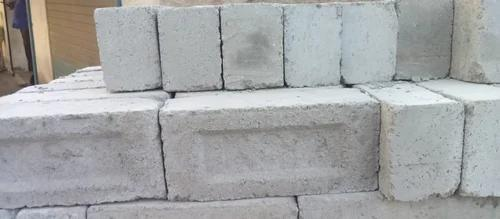brick: (160, 100, 379, 203), (0, 106, 166, 209), (386, 101, 466, 200), (159, 5, 220, 94), (223, 3, 284, 92), (96, 8, 156, 93), (398, 0, 454, 83), (286, 3, 340, 88), (343, 1, 396, 84), (467, 99, 499, 196)
